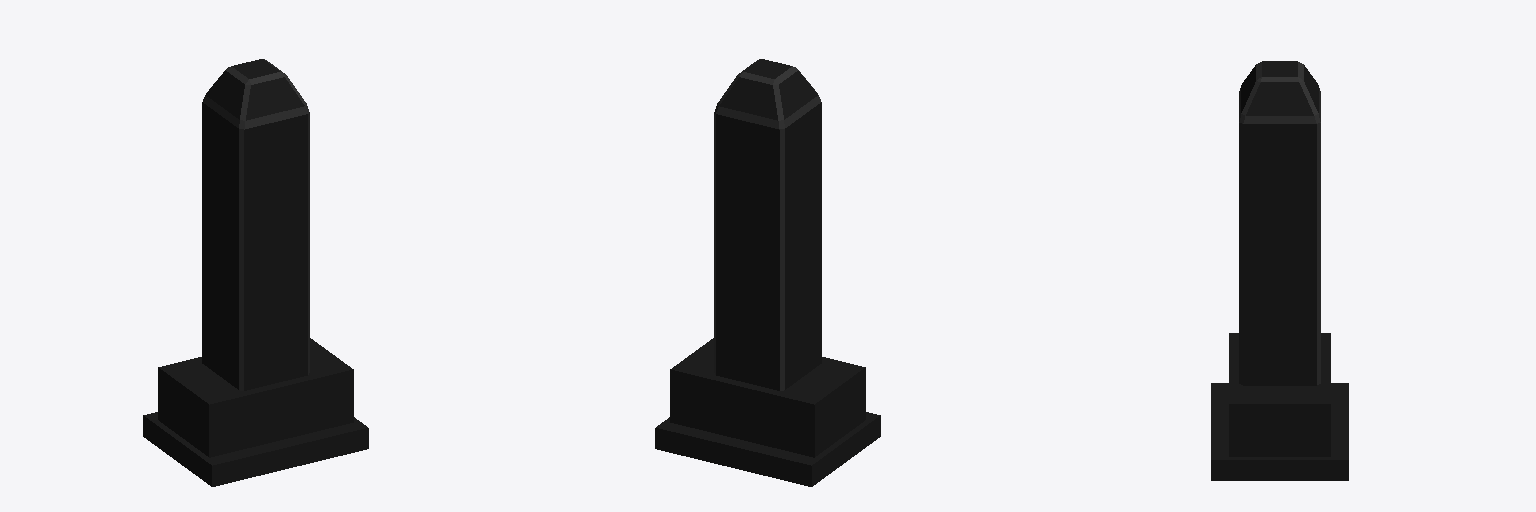
The model's file is Grave_02.obj.
The picture shows the model from 3 angles: view 1: azimuth 30°, elevation 25°; view 2: azimuth 150°, elevation 25°; view 3: azimuth 270°, elevation 25°; orthographic projection.
Visible parts, largest first — view 1: Grave_02_Cube.002; view 2: Grave_02_Cube.002; view 3: Grave_02_Cube.002.
Boxes of the visible parts, x1=… form: Grave_02_Cube.002: x1=143, y1=59, x2=368, y2=486; Grave_02_Cube.002: x1=655, y1=59, x2=880, y2=486; Grave_02_Cube.002: x1=1211, y1=61, x2=1348, y2=480.
Bounding box in the file's own units: 1.38 × 3.16 × 1.05.